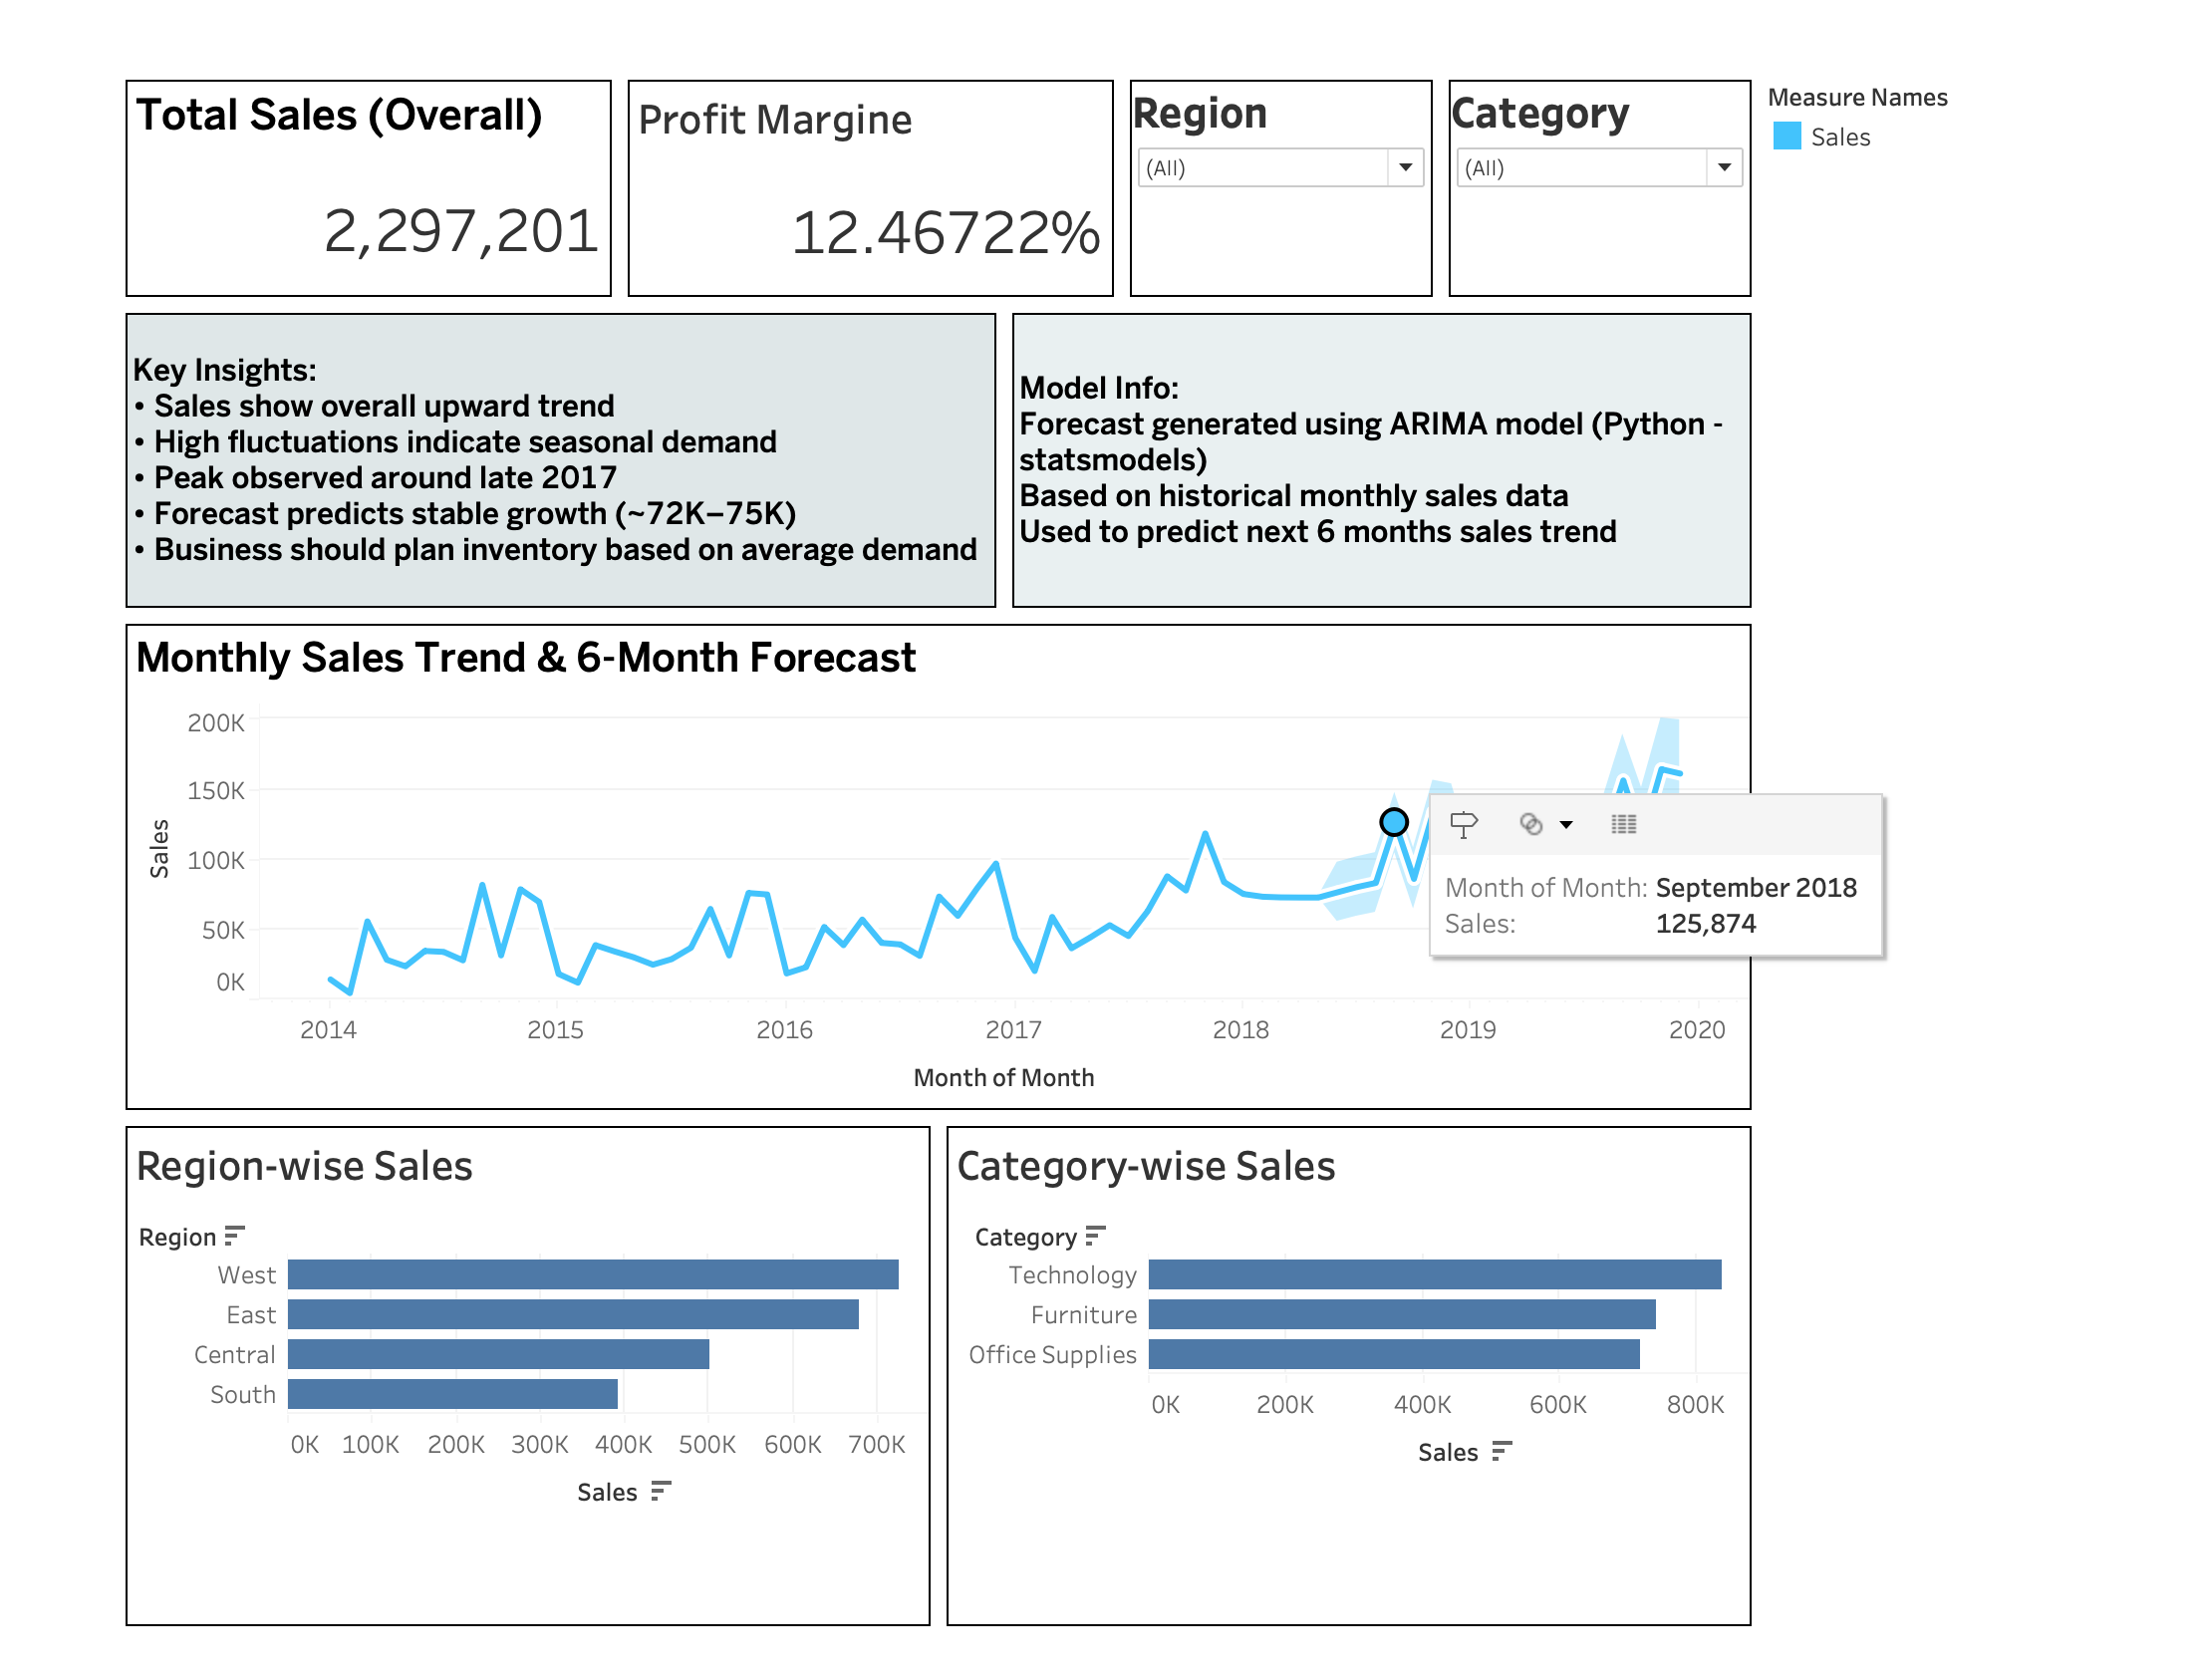

Layout of this report page (visuals, bound fields, positions):
{"tool":"tableau","page":{"name":"Dashboard 1","canvas":[1000,800],"ordinal":0},"visuals":[{"type":"worksheet","title":"Total Sales","mark":"Automatic","box":[8,8,252,117]},{"type":"worksheet","title":"Profit Margine","mark":"Automatic","box":[260,8,252,117]},{"type":"filter","title":"Category-wise Sales","param":"[federated.1a502ai1mykpgk1ame1si0mtezkg].[none:Region:nk]","box":[512,8,160,117]},{"type":"filter","title":"Category-wise Sales","param":"[federated.1a502ai1mykpgk1ame1si0mtezkg].[none:Category:nk]","box":[672,8,160,117]},{"type":"legend","title":"Monthly Sales & Forecast","param":"[federated.1mq6czb1j02w8m0zl9nbn1at79vc].[:Measure Names]","box":[832,8,160,46]},{"type":"text","box":[8,125,445,156]},{"type":"text","box":[453,125,379,156]},{"type":"worksheet","title":"Monthly Sales & Forecast","mark":"Automatic","rows":["Sales"],"cols":["Month"],"box":[8,281,824,252]},{"type":"worksheet","title":"Region-wise Sales","mark":"Automatic","rows":["Region"],"cols":["Sales"],"box":[8,533,412,259]},{"type":"worksheet","title":"Category-wise Sales","mark":"Automatic","rows":["Category"],"cols":["Sales"],"box":[420,533,412,259]}]}

Visuals, with their boxes in screenshot pixels (x1, y1, x2, y2):
"Total Sales" worksheet: bbox=(114, 68, 617, 301)
"Profit Margine" worksheet: bbox=(617, 68, 1121, 301)
"Category-wise Sales" filter: bbox=(1121, 68, 1441, 301)
"Category-wise Sales" filter: bbox=(1441, 68, 1761, 301)
"Monthly Sales & Forecast" legend: bbox=(1761, 68, 2080, 159)
text: bbox=(114, 301, 1002, 613)
text: bbox=(1002, 301, 1761, 613)
"Monthly Sales & Forecast" worksheet: bbox=(114, 613, 1761, 1117)
"Region-wise Sales" worksheet: bbox=(114, 1117, 937, 1635)
"Category-wise Sales" worksheet: bbox=(937, 1117, 1761, 1635)
